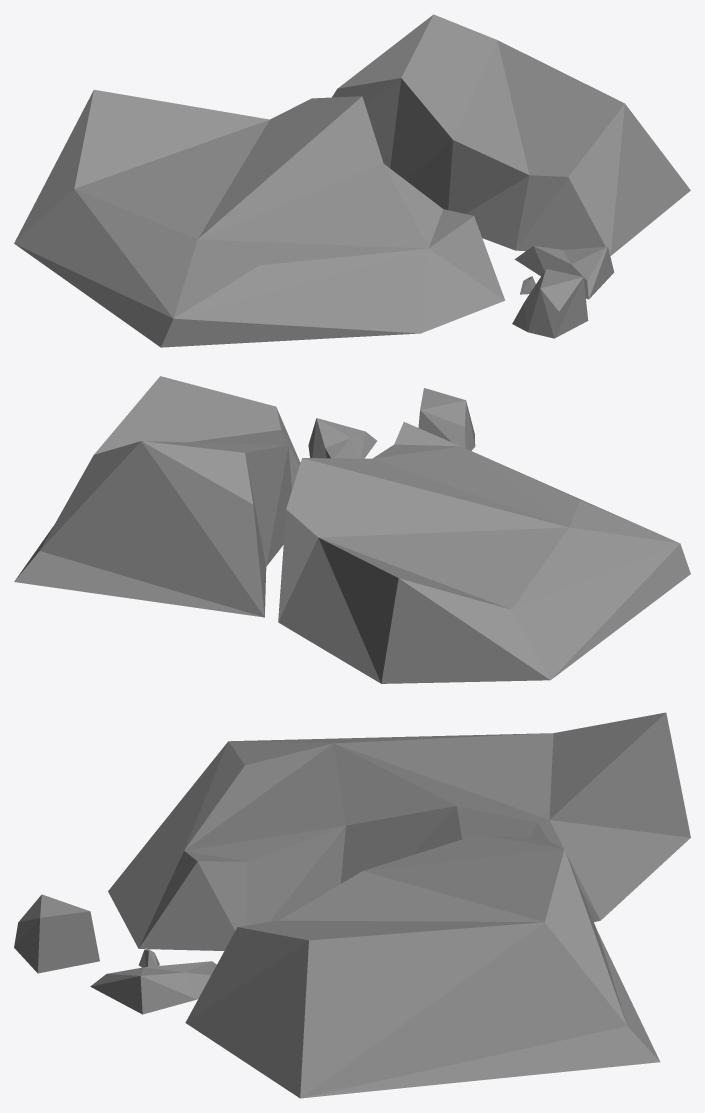
Rendered from Stone_B_17.FBX.
3 views of the same model, one above another, from view 1: azimuth 30°, elevation 25°; view 2: azimuth 150°, elevation 25°; view 3: azimuth 270°, elevation 25° (orthographic). The views are drawn at different scales.
Visible parts, largest first — view 1: Stone_B_17; view 2: Stone_B_17; view 3: Stone_B_17.
Part boxes in pixels (<box>): Stone_B_17: <box>14,14,690,347</box>; Stone_B_17: <box>14,376,690,683</box>; Stone_B_17: <box>14,712,690,1098</box>.
Size of the model in its own units: 3.89 by 0.8771 by 3.33.
